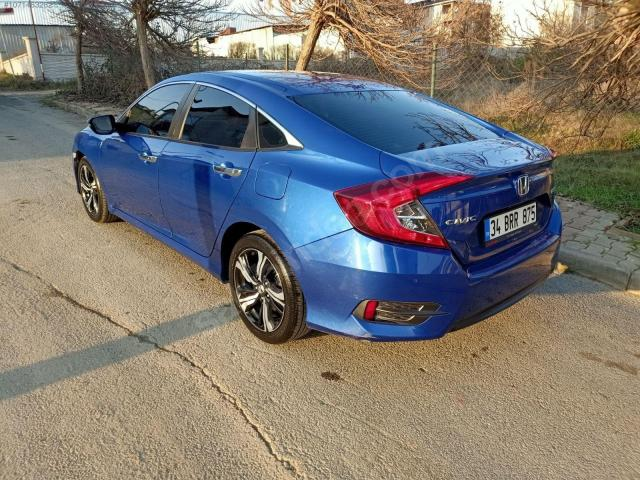plaka: (485, 202, 536, 241)
